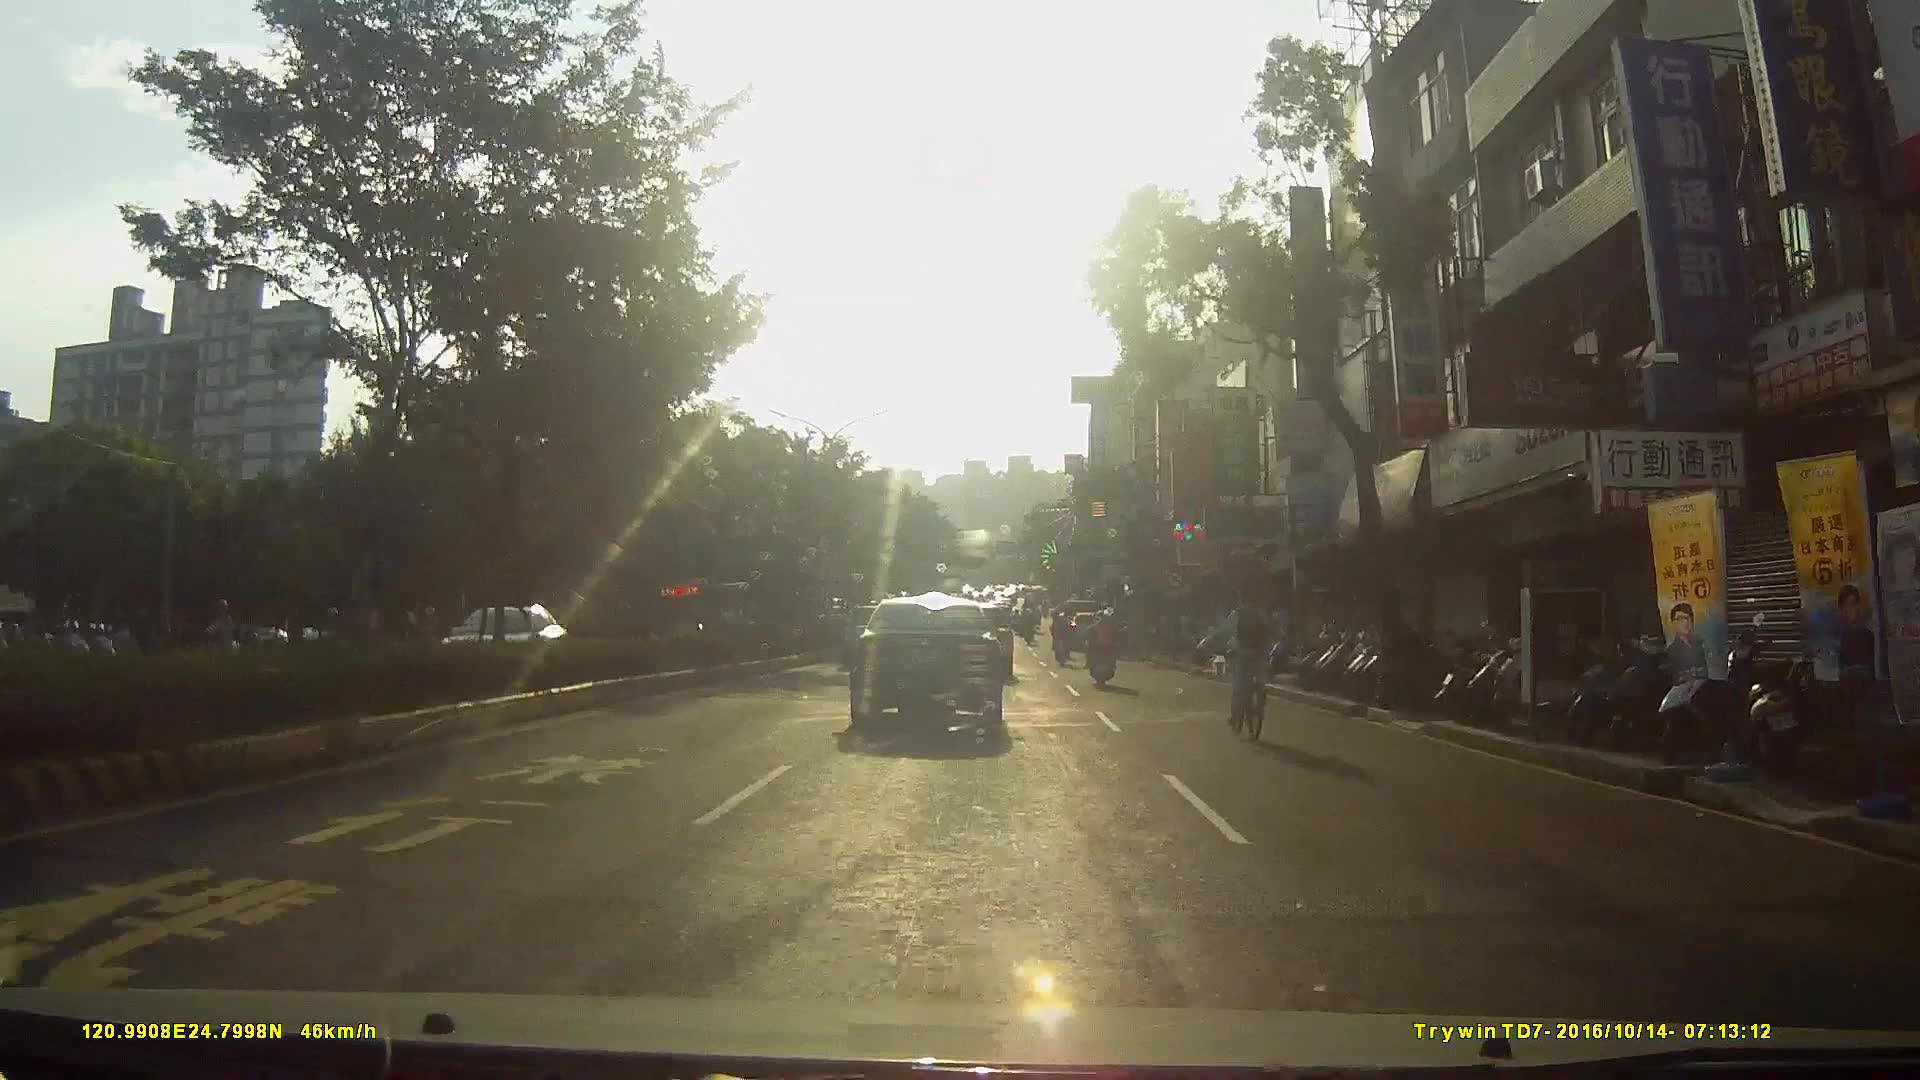rider: (1216, 583, 1288, 743), (185, 600, 258, 691), (1086, 613, 1119, 691), (1049, 613, 1075, 668)
vehicle: (850, 605, 1021, 755), (438, 607, 579, 693)
